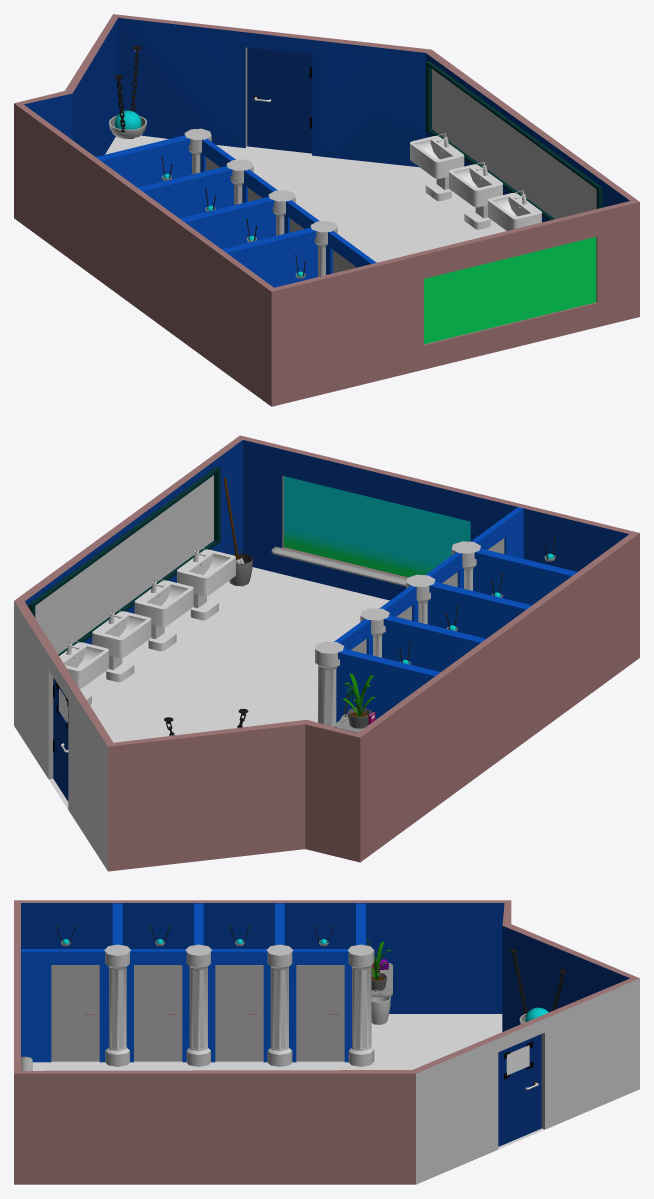
File: Hea_Bathroom_combined.fbx
3 renders of one model, top to bottom at view 1: azimuth 30°, elevation 25°; view 2: azimuth 150°, elevation 25°; view 3: azimuth 270°, elevation 25°, orthographic. The views are drawn at different scales.
Visible parts, largest first — view 1: Toilet_Heaven_Base, Toilet_Wall, Window_Toilet, Mirror, Toilet_Heaven_Door, Pillar, Sink_I1, Sink, Sink_I2, LightSource_Toilet.001, Toilet_Door_Frame_I2.001, Toilet_Door_Frame (+2 smaller); view 2: Toilet_Heaven_Base, Toilet_Wall, Mirror, Window_Toilet, Pillar, Sink_I2, Sink_I1, Sink_I3, Sink, Toilet_Heaven_Door, Toilet_Door_Frame_I2.001, Windowsill_Toilet (+3 smaller); view 3: Toilet_Heaven_Base, Pillar, Toilet_Door_Frame_I2.001, Toilet_Door, Toilet_Door_I1, Toilet_Door_I3, Toilet_Door_I2, Toilet_Heaven_Door, Toilet_Door_Frame, Toilet_Door_Frame_I1, Toilet_Door_Frame_I2, Toilet_Wall (+2 smaller).
Boxes of the visible parts, x1,y1,x2,y2 form: Toilet_Heaven_Base: (14, 14, 639, 406); Toilet_Wall: (96, 135, 317, 287); Window_Toilet: (424, 237, 596, 344); Mirror: (426, 61, 602, 220); Toilet_Heaven_Door: (247, 47, 311, 153); Pillar: (184, 128, 337, 276); Sink_I1: (448, 162, 502, 229); Sink: (410, 133, 464, 201); Sink_I2: (487, 190, 541, 230); LightSource_Toilet.001: (109, 45, 146, 138); Toilet_Door_Frame_I2.001: (326, 231, 376, 274); Toilet_Door_Frame: (200, 138, 235, 172); Toilet_Heaven_Base: (14, 435, 639, 871); Toilet_Wall: (336, 548, 577, 722); Mirror: (28, 466, 220, 655); Window_Toilet: (283, 476, 470, 577); Pillar: (315, 541, 480, 726); Sink_I2: (134, 577, 193, 651); Sink_I1: (92, 608, 151, 682); Sink_I3: (177, 546, 235, 620); Sink: (59, 639, 108, 704); Toilet_Heaven_Door: (53, 678, 68, 801); Toilet_Door_Frame_I2.001: (471, 507, 523, 558); Windowsill_Toilet: (271, 546, 406, 586); Toilet_Heaven_Base: (14, 900, 639, 1184); Pillar: (104, 944, 374, 1066); Toilet_Door_Frame_I2.001: (21, 949, 108, 1062); Toilet_Door: (296, 965, 344, 1061); Toilet_Door_I1: (215, 965, 263, 1061); Toilet_Door_I3: (51, 965, 99, 1061); Toilet_Door_I2: (134, 965, 182, 1061); Toilet_Heaven_Door: (498, 1034, 541, 1146); Toilet_Door_Frame: (289, 949, 351, 1062); Toilet_Door_Frame_I1: (208, 949, 270, 1062); Toilet_Door_Frame_I2: (126, 949, 189, 1062); Toilet_Wall: (112, 903, 365, 945).
Bounding box in the file's own units: 765 × 228 × 1166.
